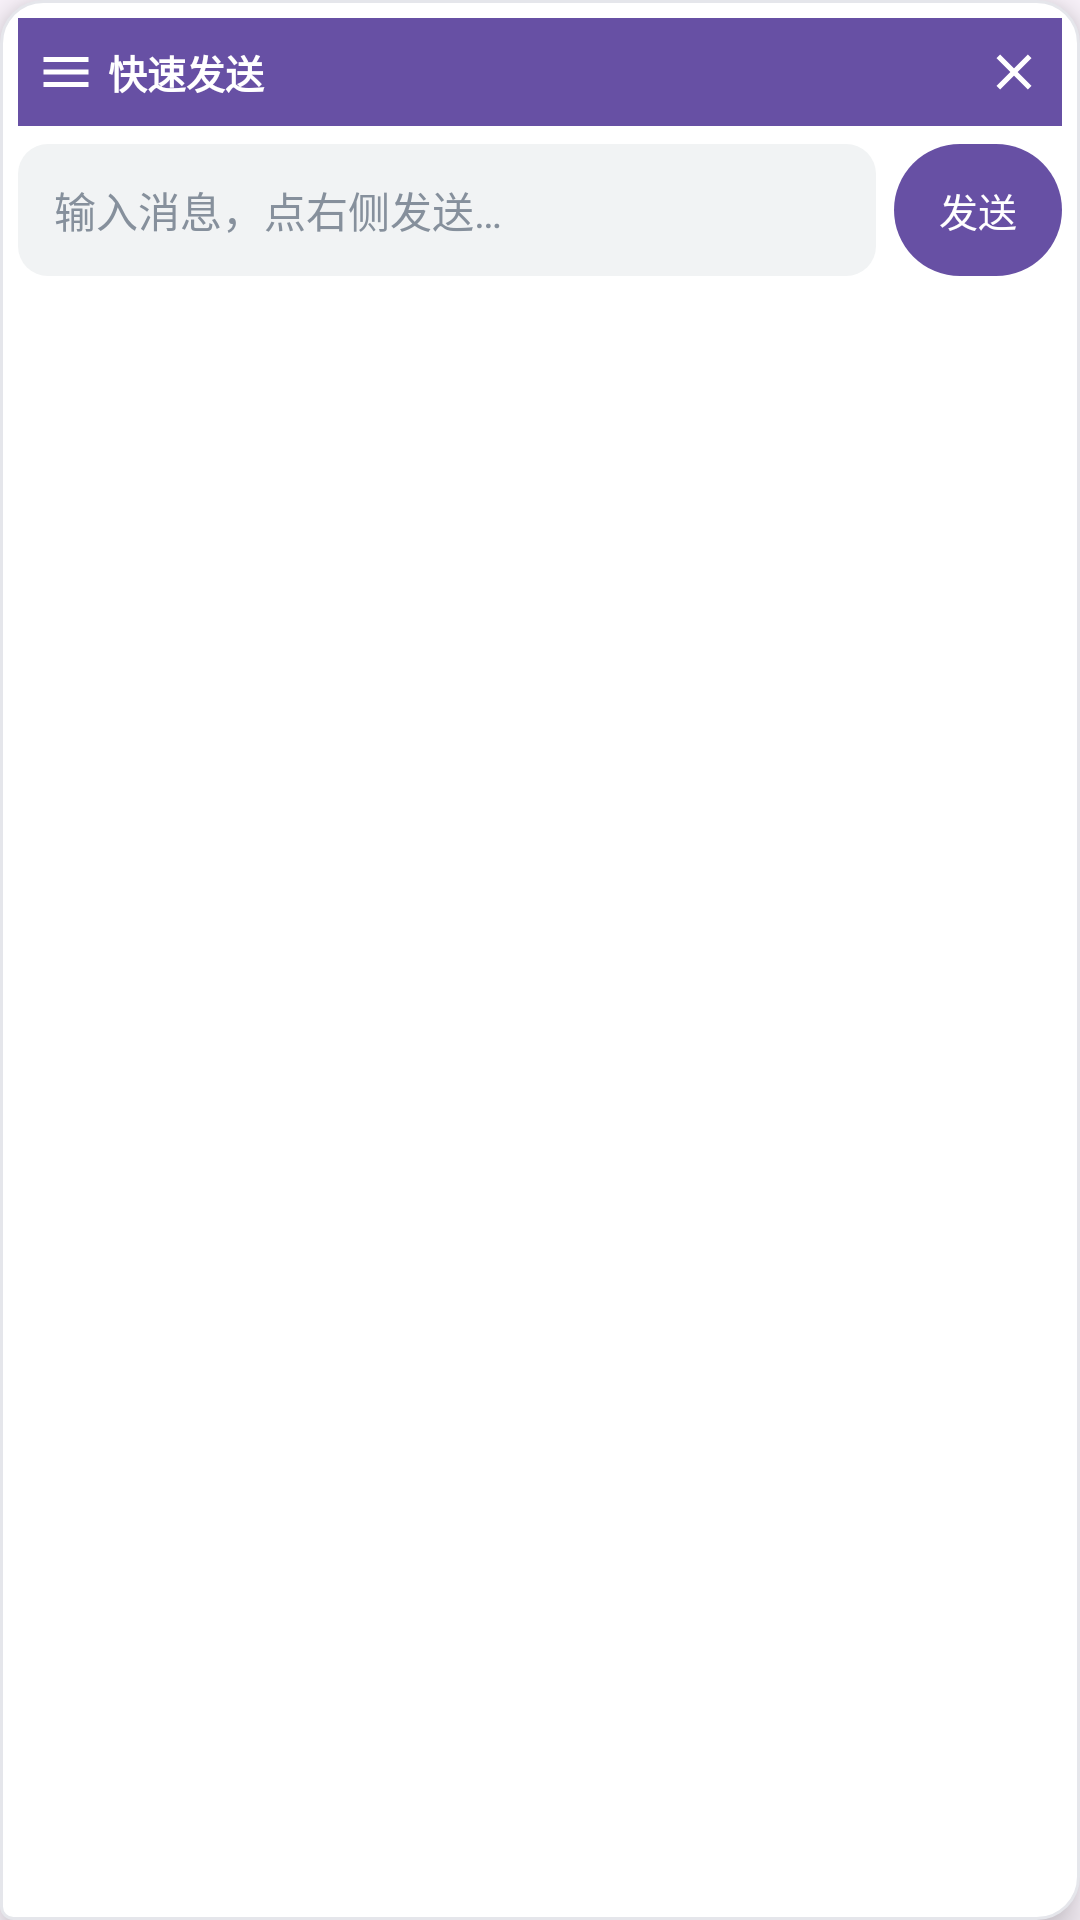

Point at icon controls on the screen. Image size 1080px×1920px, points as (x=x, y=y).
关闭悬浮窗: (x=1014, y=72)
拖动悬浮窗: (x=66, y=72)
